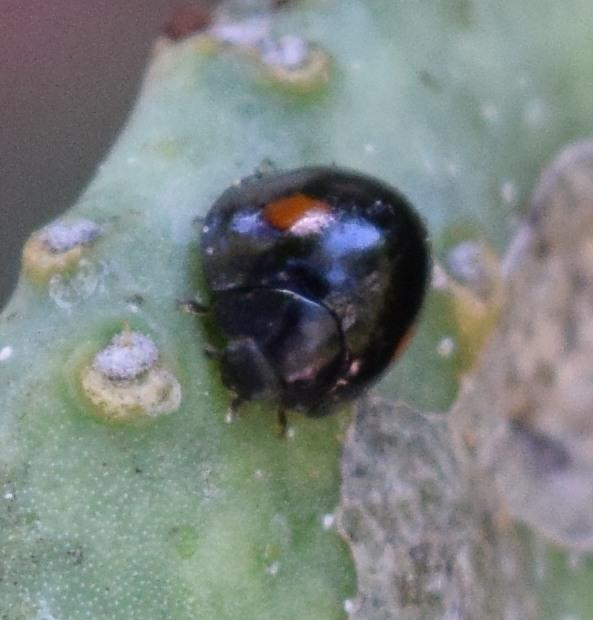ladybug: (176, 163, 436, 439)
